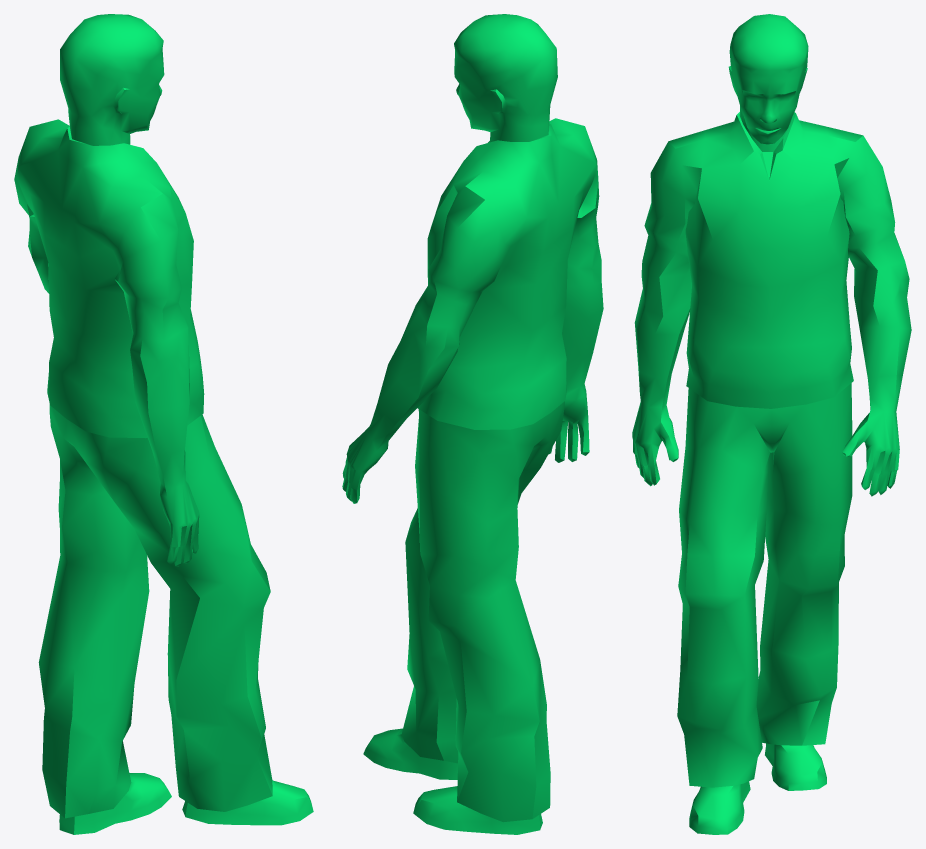
File: SM_Man_Stand_Walking01.glb
3 views of the same model, side by side, from view 1: azimuth 30°, elevation 25°; view 2: azimuth 150°, elevation 25°; view 3: azimuth 270°, elevation 25° (orthographic). The views are drawn at different scales.
Visible parts, largest first — view 1: SM_Man_Stand_Walking01; view 2: SM_Man_Stand_Walking01; view 3: SM_Man_Stand_Walking01.
Part boxes in pixels (<box>): SM_Man_Stand_Walking01: <box>14,14,313,834</box>; SM_Man_Stand_Walking01: <box>342,14,603,834</box>; SM_Man_Stand_Walking01: <box>632,14,911,834</box>.
Bounding box in the file's own units: 0.5351 × 1.82 × 0.6207.
